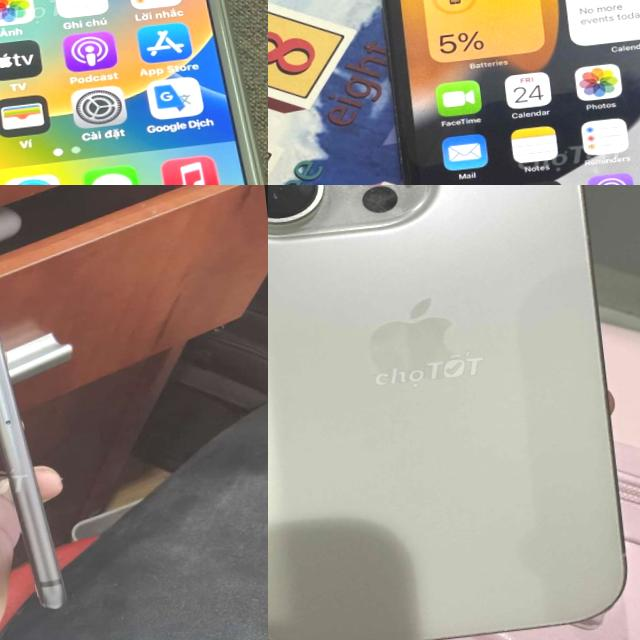scratch: (0, 225, 78, 627), (268, 185, 440, 242)
